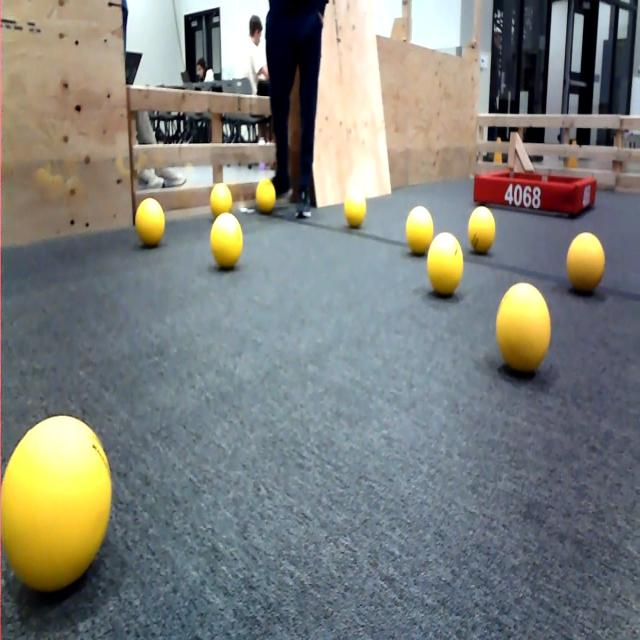Bumper: (467, 160, 606, 220)
fuel: (0, 407, 117, 591), (489, 276, 561, 385), (564, 221, 610, 310), (421, 226, 471, 307), (463, 198, 502, 262), (209, 207, 244, 277), (127, 190, 169, 248), (402, 201, 438, 255), (342, 182, 371, 231), (253, 177, 280, 218), (209, 176, 235, 216)
